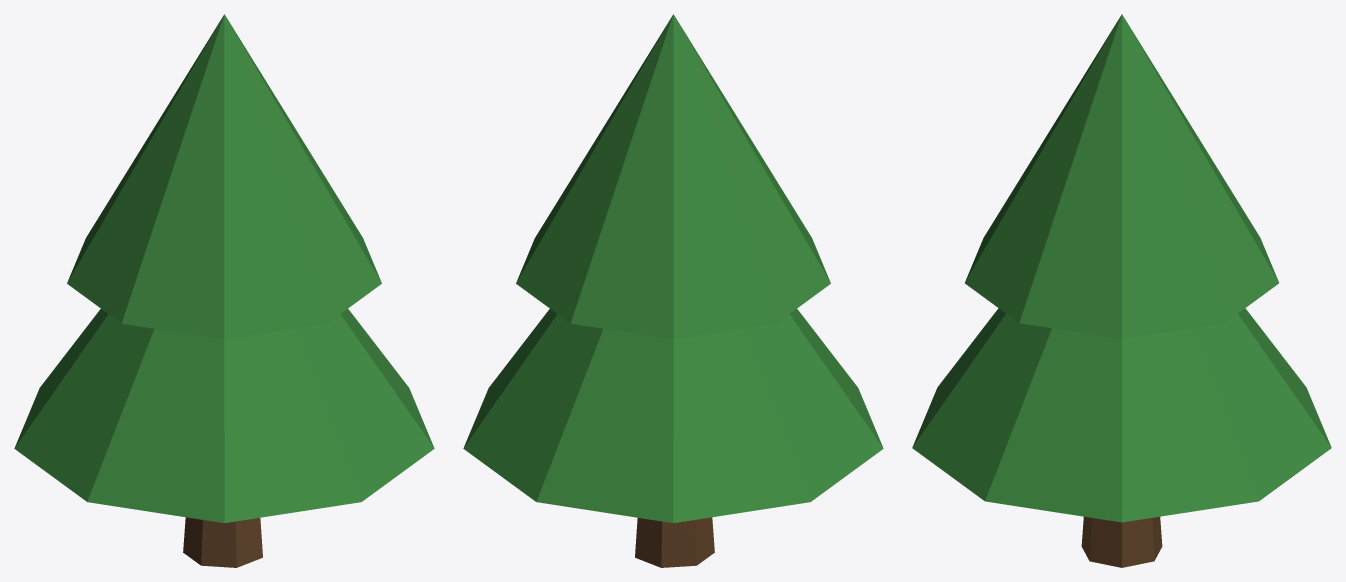
The model's file is tree.obj.
3 views of the same model, side by side, from view 1: azimuth 30°, elevation 25°; view 2: azimuth 150°, elevation 25°; view 3: azimuth 270°, elevation 25° (orthographic).
Size of the model in its own units: 0.6983 by 1 by 0.709.
